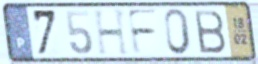0: (163, 7, 193, 57)
5: (64, 9, 94, 56)
7: (32, 9, 59, 57)
B: (192, 8, 228, 55)
F: (125, 8, 160, 57)
H: (91, 8, 131, 57)
